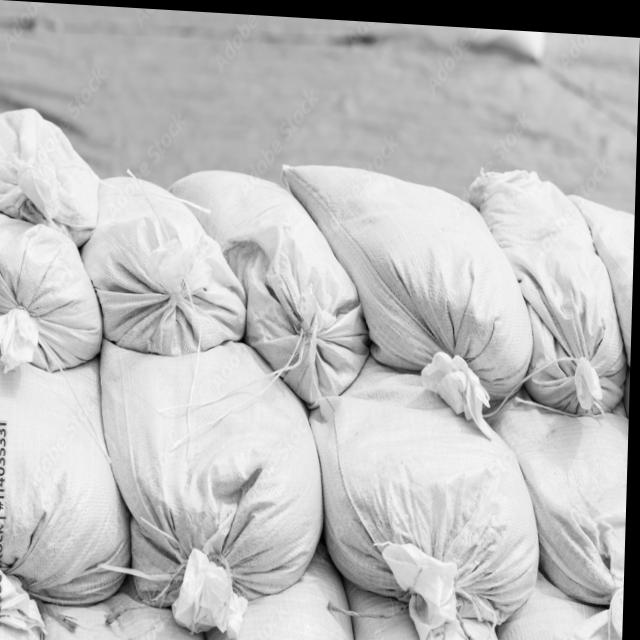sack: (96, 331, 330, 637), (277, 160, 539, 432), (305, 348, 546, 640), (165, 165, 376, 409), (465, 159, 633, 411), (0, 351, 139, 636), (487, 381, 632, 640), (79, 172, 252, 358), (0, 210, 108, 373)
